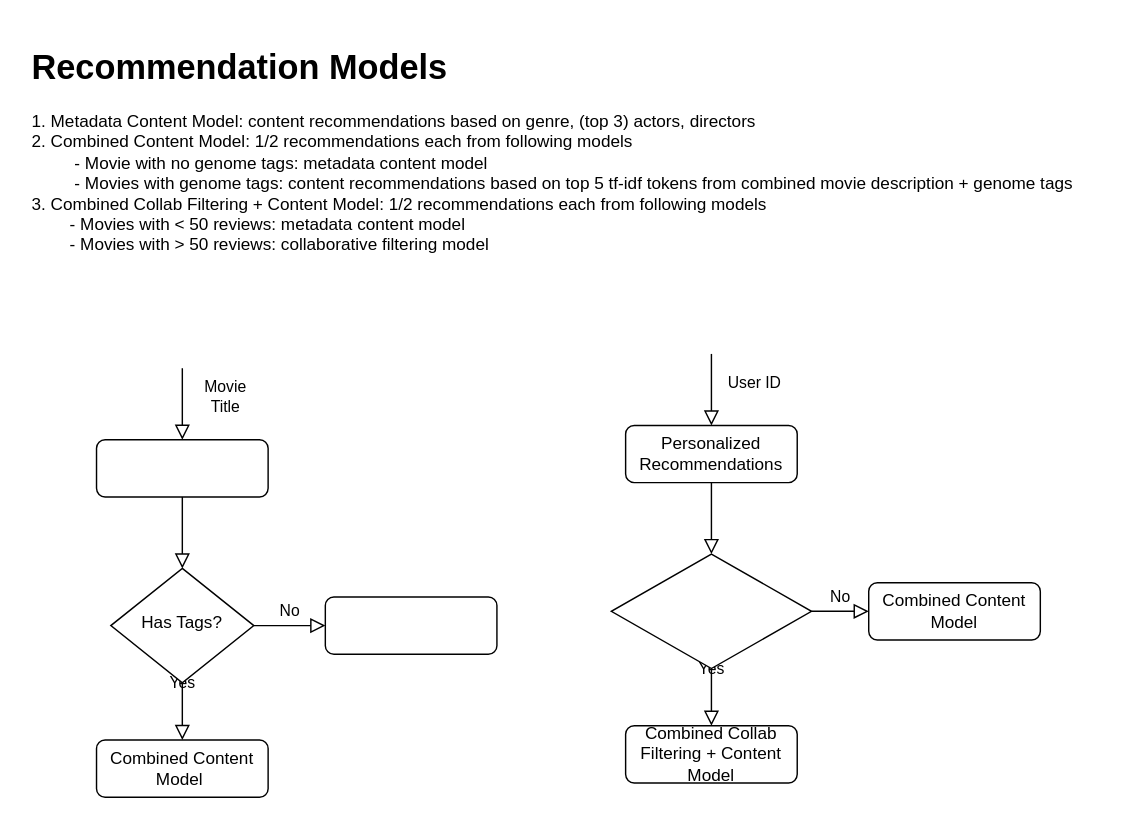
This 1135x822 diagram has some shape labels left out. Here are the shapes that lost their labels. From the top down, the box of each, then its label:
(95, 438, 268, 497): Item-Item Recommendations
(324, 596, 497, 654): Metadata Content Model
(610, 553, 812, 669): Pre-existing? (vs newly entered)
